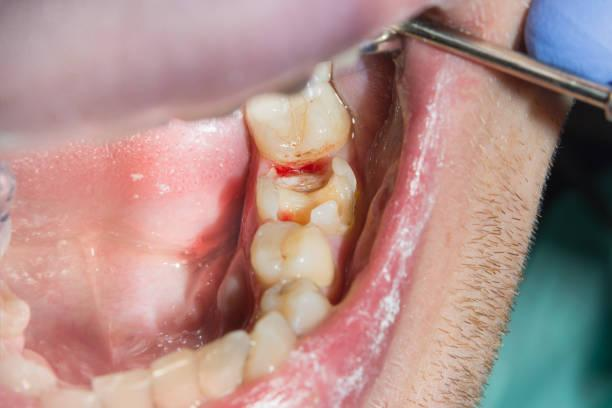Caries: (289, 158, 343, 203)
